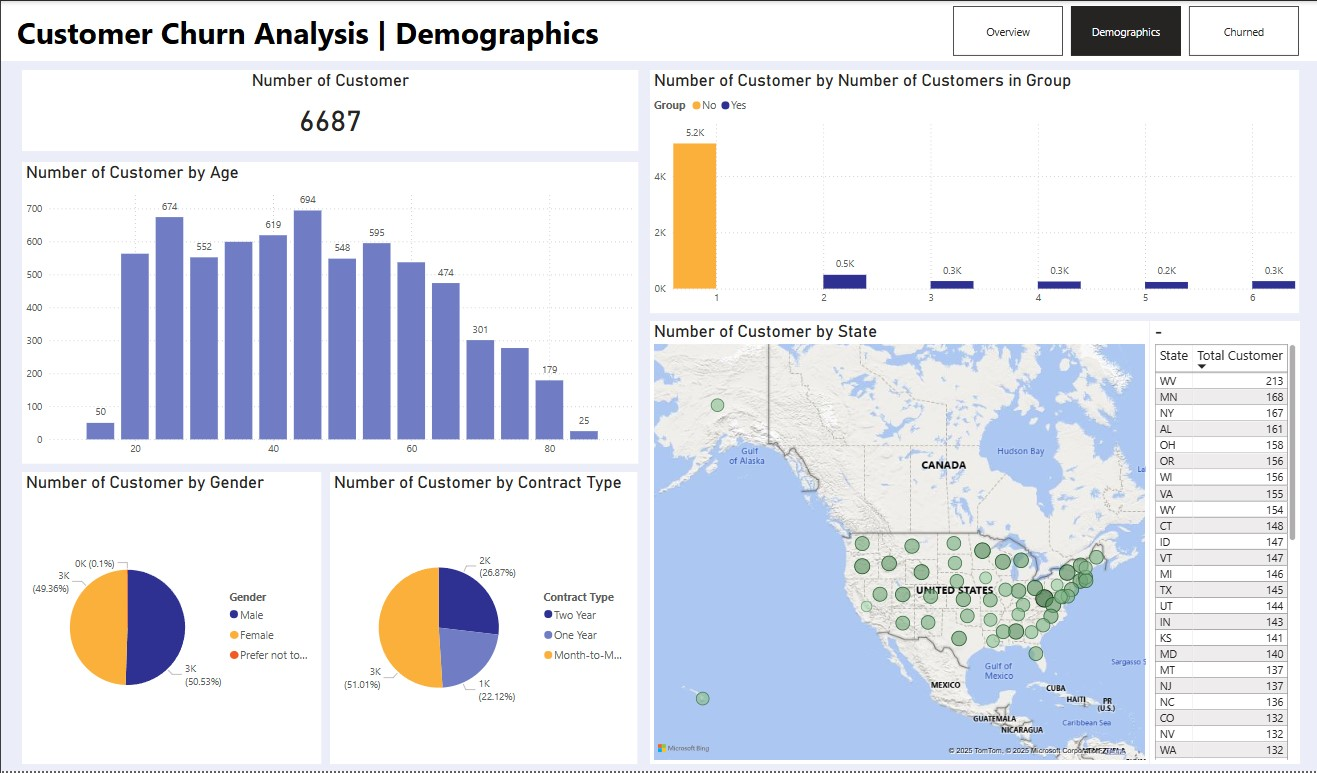

What the dashboard file says about the page in this screenshot:
{"tool":"powerbi","page":{"name":"Demographics","canvas":[1640,960],"ordinal":1},"visuals":[{"type":"shape","box":[0,0,1640,74.8],"z":0},{"type":"card","title":"Number of Customer","fields":{"Values":["_Measure.NumberofCustomer"]},"box":[26.3,86.2,768.5,100.5],"z":1000},{"type":"pageNavigator","box":[1186.4,6.2,432.4,62.3],"z":2000},{"type":"clusteredColumnChart","title":"Number of Customer by Age","fields":{"Category":["Databel.Age (bins)"],"Y":["_Measure.NumberofCustomer"]},"box":[26.3,201.1,768.5,375.9],"z":3000},{"type":"pieChart","title":"Number of Customer by Gender","fields":{"Y":["_Measure.NumberofCustomer"],"Category":["Databel.Gender"]},"box":[26.3,586.5,373.5,363.9],"z":4000},{"type":"pieChart","title":"Number of Customer by Contract Type","fields":{"Y":["_Measure.NumberofCustomer"],"Category":["Databel.Contract Type"]},"box":[410.6,586.5,383,363.9],"z":5000},{"type":"clusteredColumnChart","title":"Number of Customer by Number of Customers in Group","fields":{"Category":["Databel.Number of Customers in Group"],"Series":["Databel.Group"],"Y":["_Measure.NumberofCustomer"]},"box":[809.2,86.2,809.2,302.8],"z":6000},{"type":"map","title":"Number of Customer by State","fields":{"Category":["Databel.State"],"Size":["_Measure.NumberofCustomer"]},"box":[809.2,398.6,622.4,551.8],"z":7000},{"type":"tableEx","title":"-","fields":{"Values":["Databel.State","_Measure.NumberofCustomer"]},"box":[1431.6,398.6,186.7,551.8],"z":8000}]}

Visuals, with their boxes in screenshot pixels (x1, y1, x2, y2), scaled from the page's 1640x960 canvas onto the 1317x773 screenshot:
shape: [0,0,1316,60]
"Number of Customer" card: [21,69,638,150]
pageNavigator: [953,5,1300,55]
"Number of Customer by Age" clusteredColumnChart: [21,162,638,465]
"Number of Customer by Gender" pieChart: [21,472,321,765]
"Number of Customer by Contract Type" pieChart: [330,472,637,765]
"Number of Customer by Number of Customers in Group" clusteredColumnChart: [650,69,1300,313]
"Number of Customer by State" map: [650,321,1150,765]
"-" tableEx: [1150,321,1300,765]
